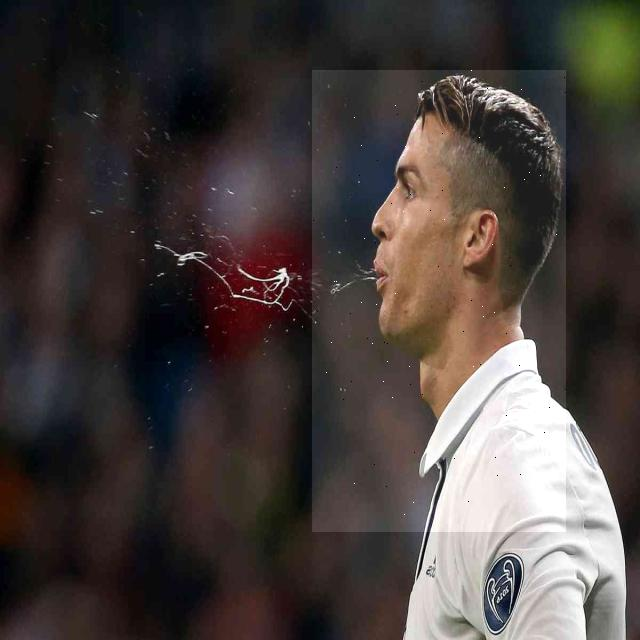Spitting: (312, 70, 566, 532)
